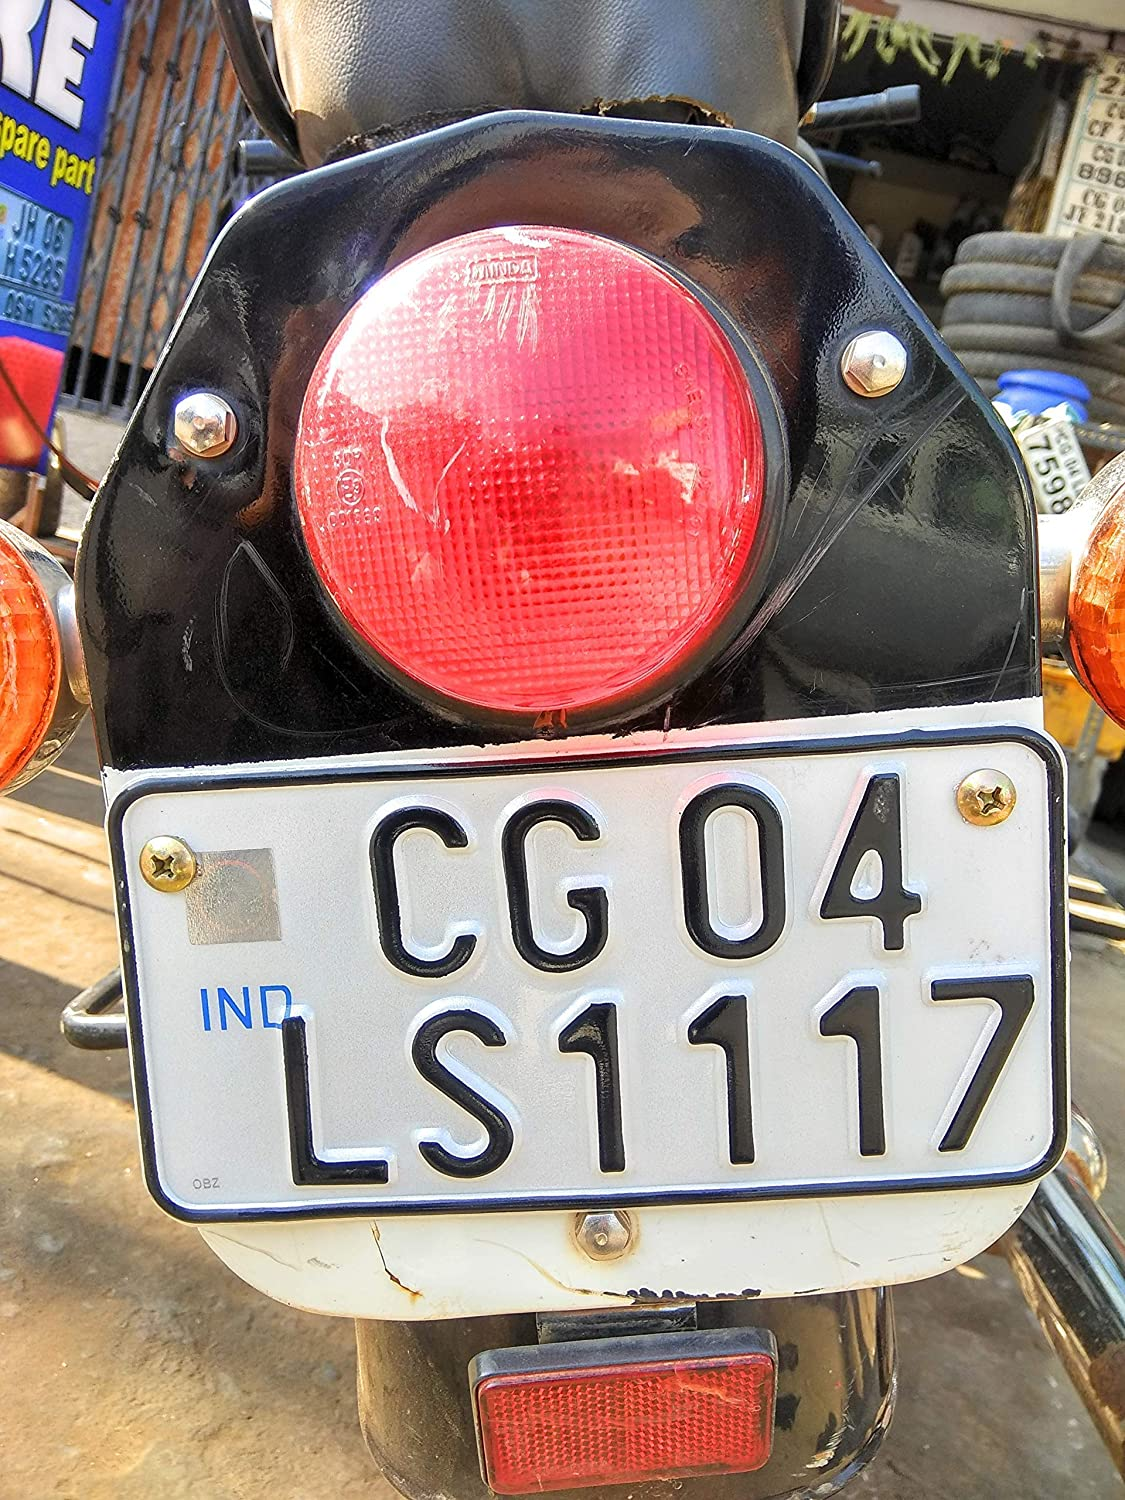doublelinenumberplate: (98, 729, 1075, 1227)
